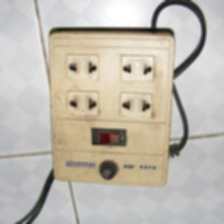three_eye_plug: (44, 26, 178, 190)
